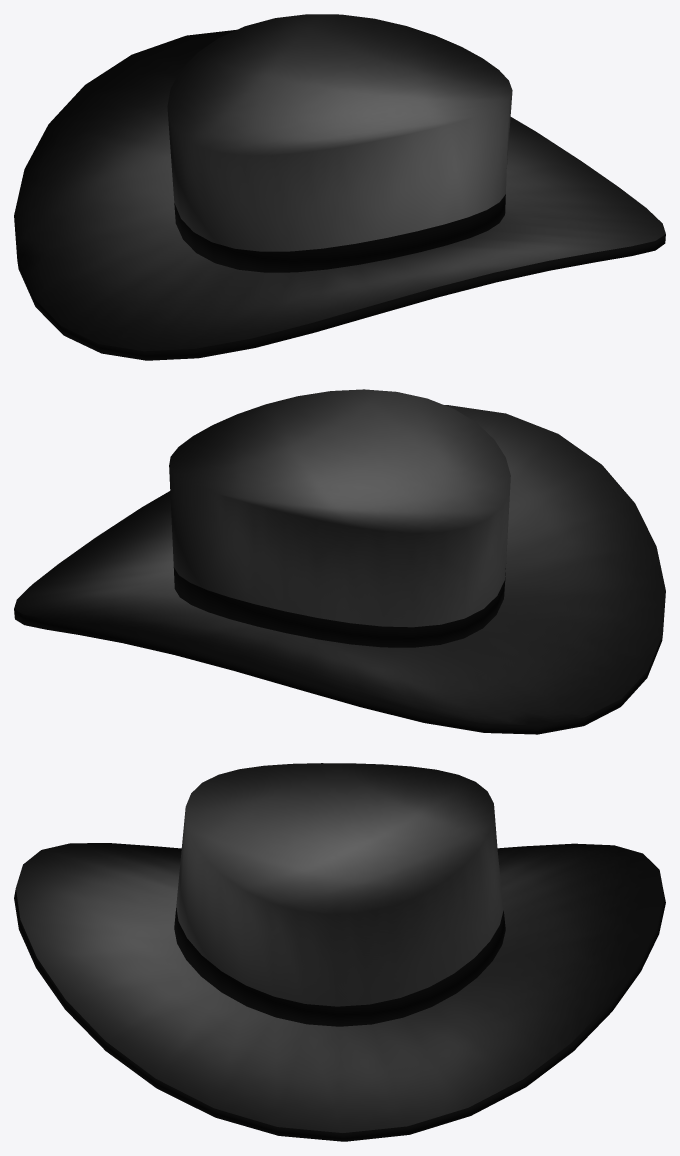
File: Cowboy_Negro.fbx
3 renders of one model, top to bottom at view 1: azimuth 30°, elevation 25°; view 2: azimuth 150°, elevation 25°; view 3: azimuth 270°, elevation 25°, orthographic.
Visible parts, largest first — view 1: Circle.002; view 2: Circle.002; view 3: Circle.002.
Boxes of the visible parts, x1=… form: Circle.002: x1=14, y1=14, x2=665, y2=360; Circle.002: x1=14, y1=389, x2=665, y2=734; Circle.002: x1=14, y1=763, x2=665, y2=1141.
Size of the model in its own units: 198 by 63.91 by 197.
